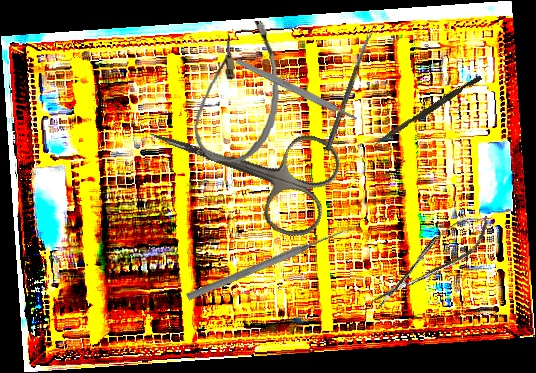Cannula: (191, 17, 284, 165)
Iris Scissors: (132, 83, 347, 245)
Micro Scissor: (362, 206, 499, 316)
Pusher: (185, 226, 346, 303), (373, 72, 483, 150)
Scalpel Handle: (234, 57, 359, 123)
Surgical Spoon: (324, 28, 375, 152)
